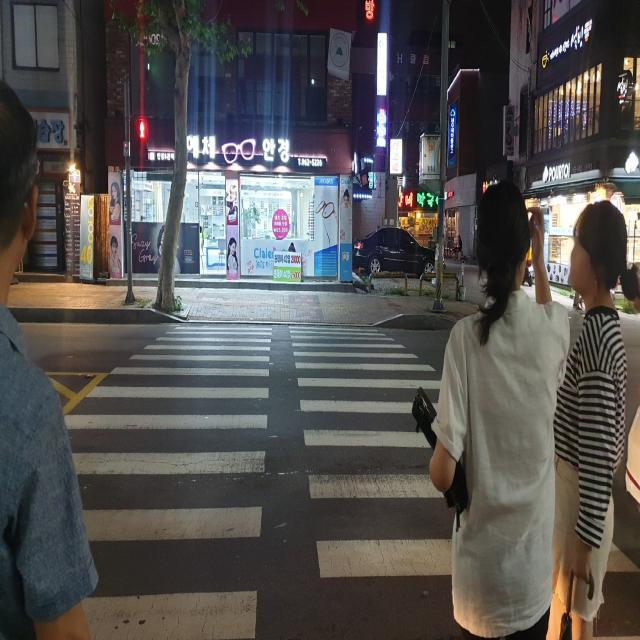빨간불: (135, 117, 149, 169)
횡단보도: (63, 323, 640, 640)
